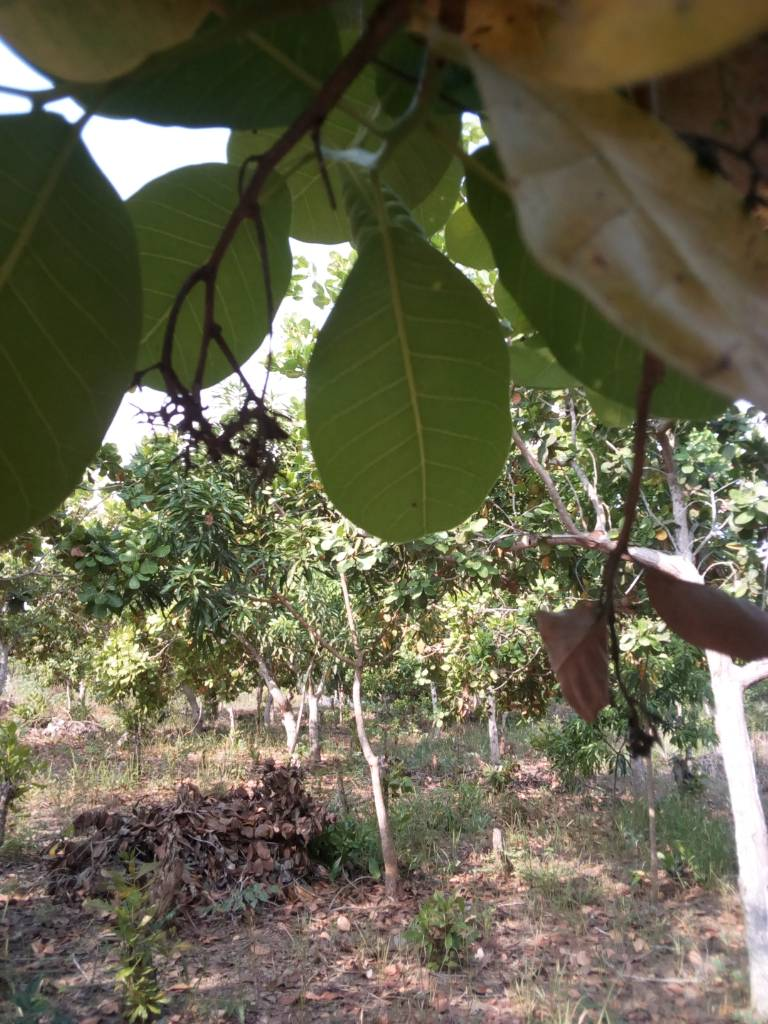Dessèchement des bourgeons: (564, 585, 684, 774), (210, 267, 282, 480), (155, 346, 215, 486)
